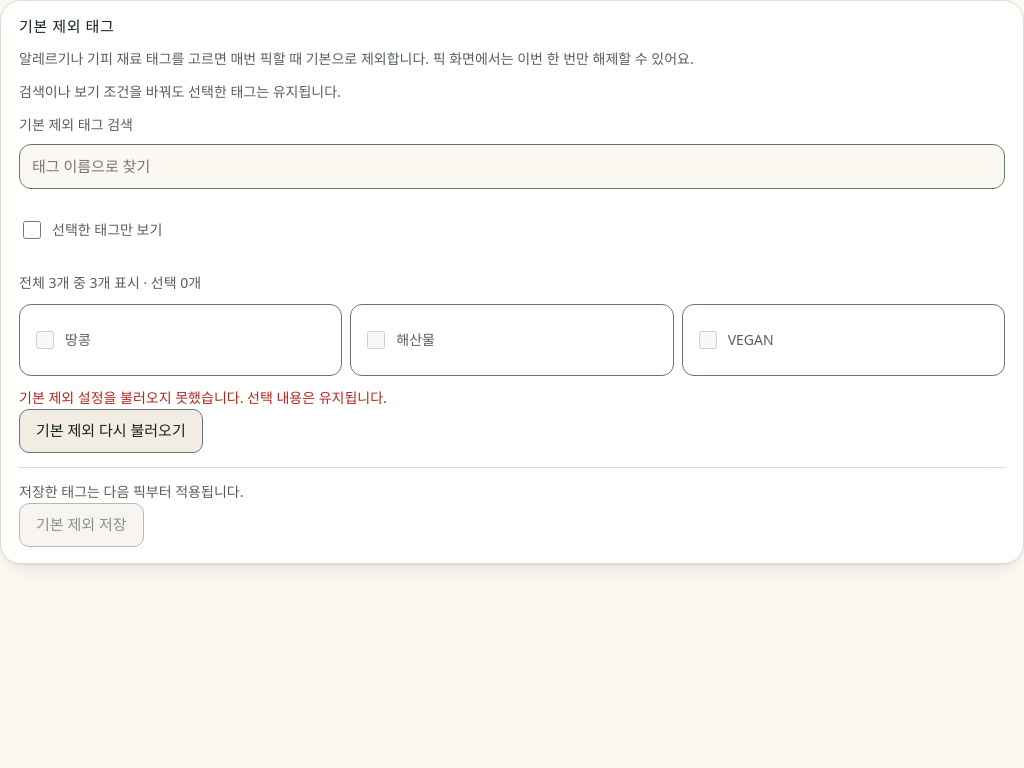
Test: 조회 실패 시 저장을 막고 다시 불러온 설정을 표시한다
Expected: the message "기본 제외 설정을 불러오지 못했습니다. 선택 내용은 유지됩니다." is shown, top-left (19, 386), bottom-right (387, 409)
Click the button "기본 제외 저장".
click(81, 525)  # box top-left (19, 503), bottom-right (144, 547)
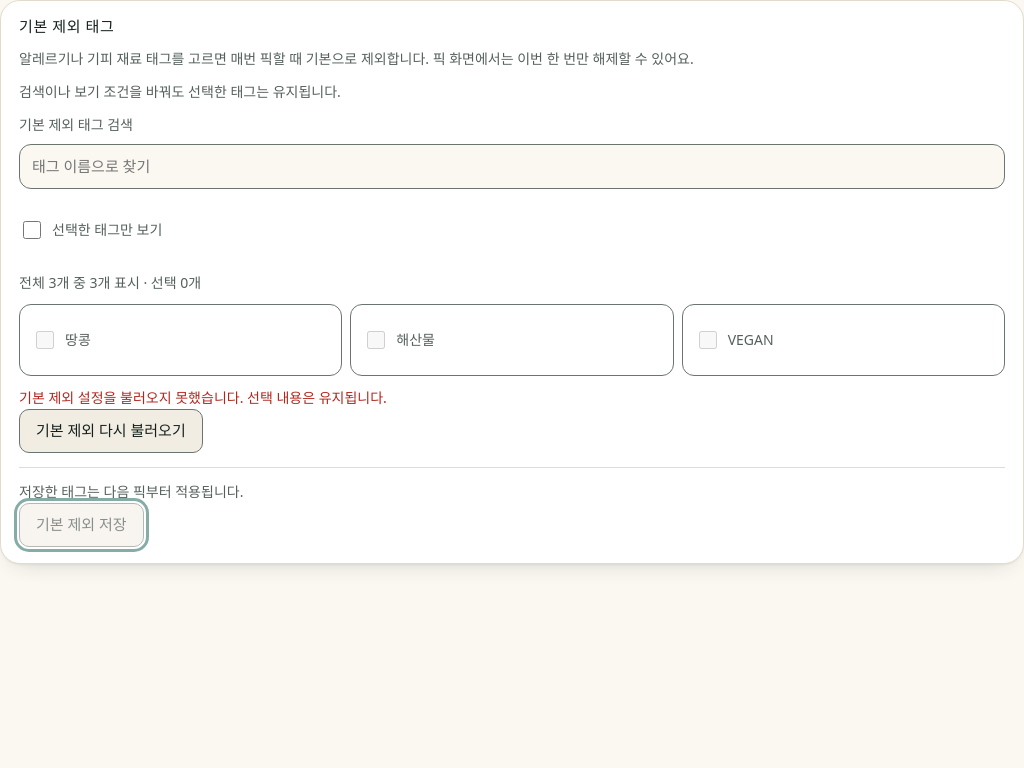
Click the button "기본 제외 다시 불러오기".
click(111, 431)  # box top-left (19, 409), bottom-right (203, 453)
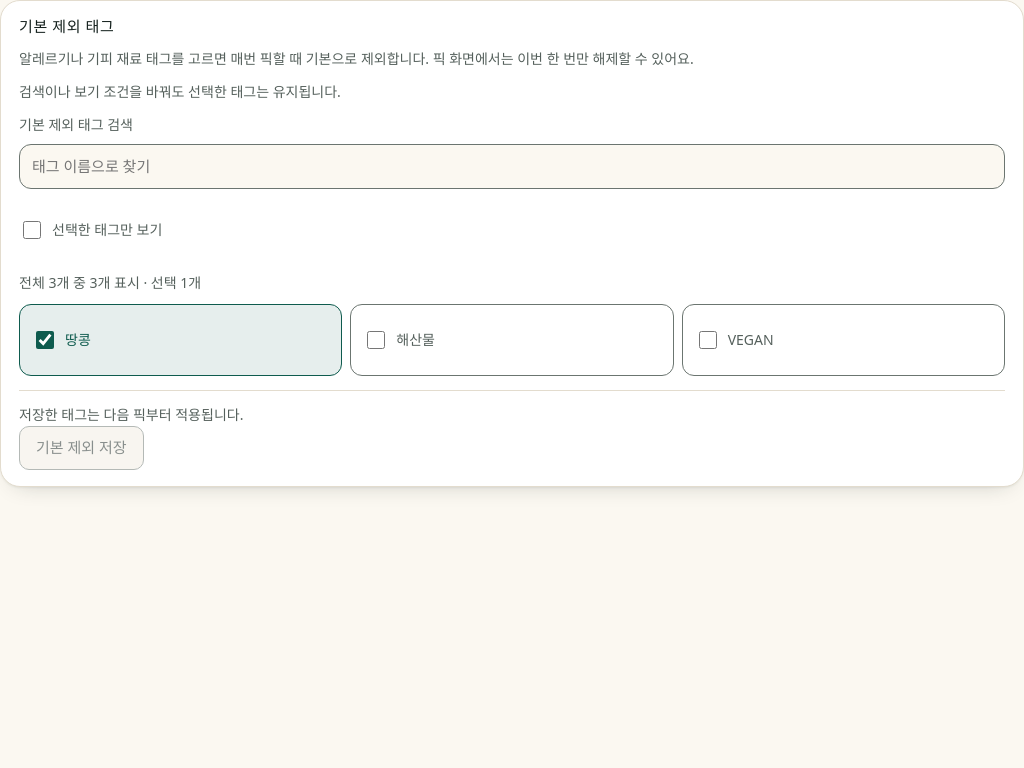
Expected: the checkbox labelled "땅콩" is checked, top-left (36, 318), bottom-right (54, 362)
Expected: the message "기본 제외 설정을 불러오지 못했습니다. 선택 내용은 유지됩니다." is gone
